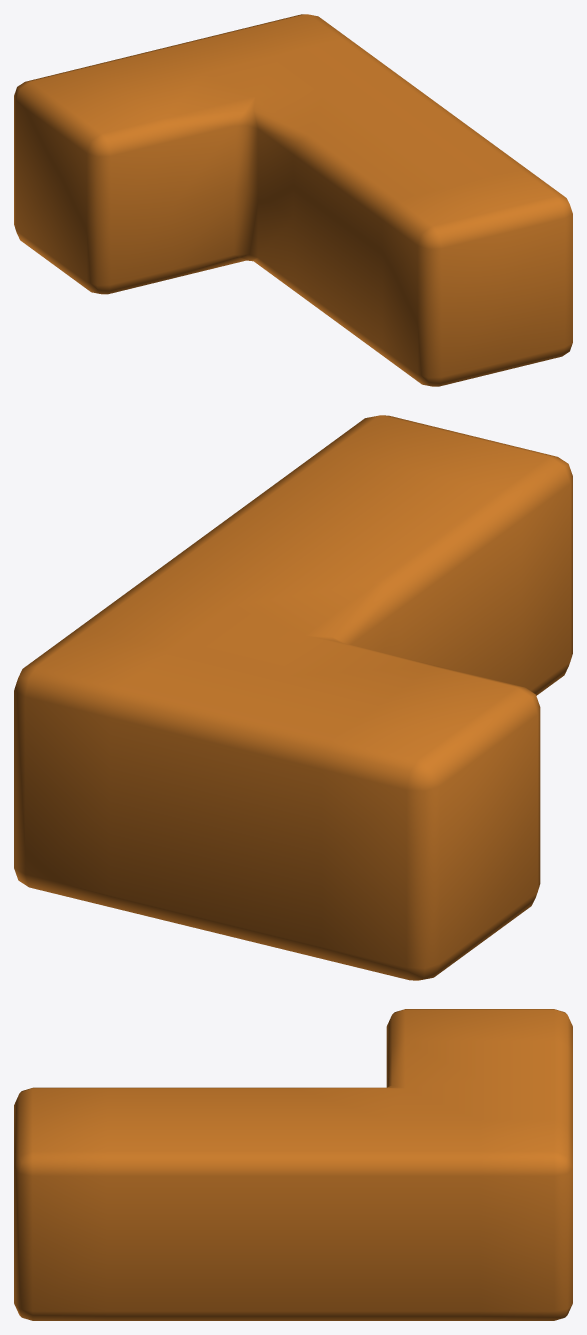
The model's file is tetrisL.obj.
3 views of the same model, one above another, from view 1: azimuth 30°, elevation 25°; view 2: azimuth 150°, elevation 25°; view 3: azimuth 270°, elevation 25° (orthographic). The views are drawn at different scales.
Visible parts, largest first — view 1: Cube; view 2: Cube; view 3: Cube.
Boxes of the visible parts, bbox=[...] form: Cube: bbox=[14, 14, 572, 386]; Cube: bbox=[14, 415, 572, 980]; Cube: bbox=[14, 1009, 572, 1320].
Size of the model in its own units: 0.3 by 0.15 by 0.45.
